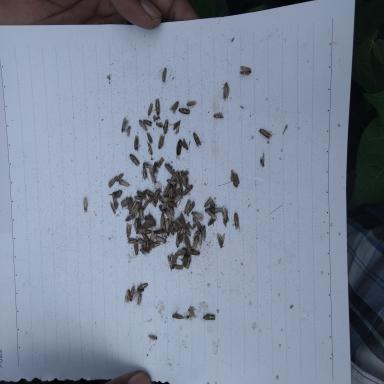pbw: (231, 212, 242, 233), (258, 128, 276, 140), (193, 131, 205, 147), (204, 207, 218, 220), (131, 288, 144, 302), (152, 98, 162, 116), (164, 161, 176, 175), (169, 120, 181, 134), (136, 186, 148, 200), (172, 307, 184, 321), (221, 81, 229, 102), (200, 312, 216, 322), (239, 66, 252, 78), (182, 184, 194, 196), (166, 253, 174, 271), (135, 236, 148, 247), (211, 107, 224, 118), (170, 100, 180, 114), (182, 199, 191, 214), (149, 168, 158, 183), (146, 102, 153, 121), (191, 211, 203, 222), (129, 154, 140, 166), (178, 105, 190, 116), (108, 175, 118, 188), (192, 216, 202, 229), (183, 234, 191, 250), (141, 166, 149, 182), (217, 232, 225, 248), (191, 234, 199, 250), (148, 194, 157, 208), (128, 200, 137, 214), (180, 170, 187, 188), (121, 115, 128, 133), (186, 201, 195, 215), (108, 189, 122, 198), (153, 188, 164, 199), (157, 134, 165, 149), (128, 282, 134, 302), (176, 139, 182, 159), (132, 201, 140, 216), (126, 223, 134, 237), (171, 252, 178, 268), (146, 140, 153, 156), (180, 212, 187, 228), (140, 232, 150, 243), (136, 224, 147, 234), (139, 247, 150, 257), (155, 235, 167, 244), (139, 120, 148, 132), (82, 196, 88, 213), (176, 249, 186, 259), (137, 282, 148, 291), (204, 196, 213, 207), (158, 213, 165, 227), (187, 250, 201, 257), (149, 242, 163, 249), (166, 184, 173, 198), (118, 179, 130, 187), (193, 228, 201, 240), (165, 209, 173, 221), (124, 290, 130, 306), (132, 243, 140, 255), (188, 306, 196, 318), (163, 118, 169, 134), (139, 206, 145, 222), (207, 216, 216, 226), (143, 160, 153, 169), (186, 254, 192, 269), (127, 238, 138, 246), (174, 192, 182, 203), (143, 199, 151, 210), (223, 208, 229, 222), (149, 231, 156, 243), (208, 207, 222, 213), (112, 196, 118, 210), (167, 221, 174, 233), (153, 160, 160, 172), (181, 138, 188, 150), (152, 228, 164, 235), (175, 219, 184, 228), (162, 67, 167, 83), (125, 214, 135, 222), (110, 201, 116, 214), (136, 293, 142, 306), (186, 100, 197, 107), (157, 157, 164, 168), (157, 193, 164, 204), (179, 227, 186, 238), (199, 230, 203, 249), (143, 119, 152, 127), (176, 230, 180, 248), (162, 196, 174, 202), (172, 219, 178, 231), (146, 132, 152, 144), (166, 179, 178, 185), (158, 205, 167, 213), (116, 173, 124, 182), (145, 189, 155, 196), (140, 243, 150, 250), (202, 225, 206, 242), (166, 202, 177, 208), (181, 232, 186, 245), (171, 171, 179, 179), (172, 187, 179, 196), (148, 336, 158, 342), (260, 152, 264, 167), (173, 264, 183, 270), (134, 135, 138, 150), (162, 222, 166, 237), (121, 199, 129, 206), (141, 229, 152, 234), (126, 126, 131, 137), (168, 206, 174, 215), (138, 200, 142, 212), (185, 228, 191, 236), (179, 180, 183, 192), (162, 202, 167, 211), (134, 196, 143, 200), (138, 216, 141, 228), (156, 122, 163, 127), (170, 228, 174, 236)
